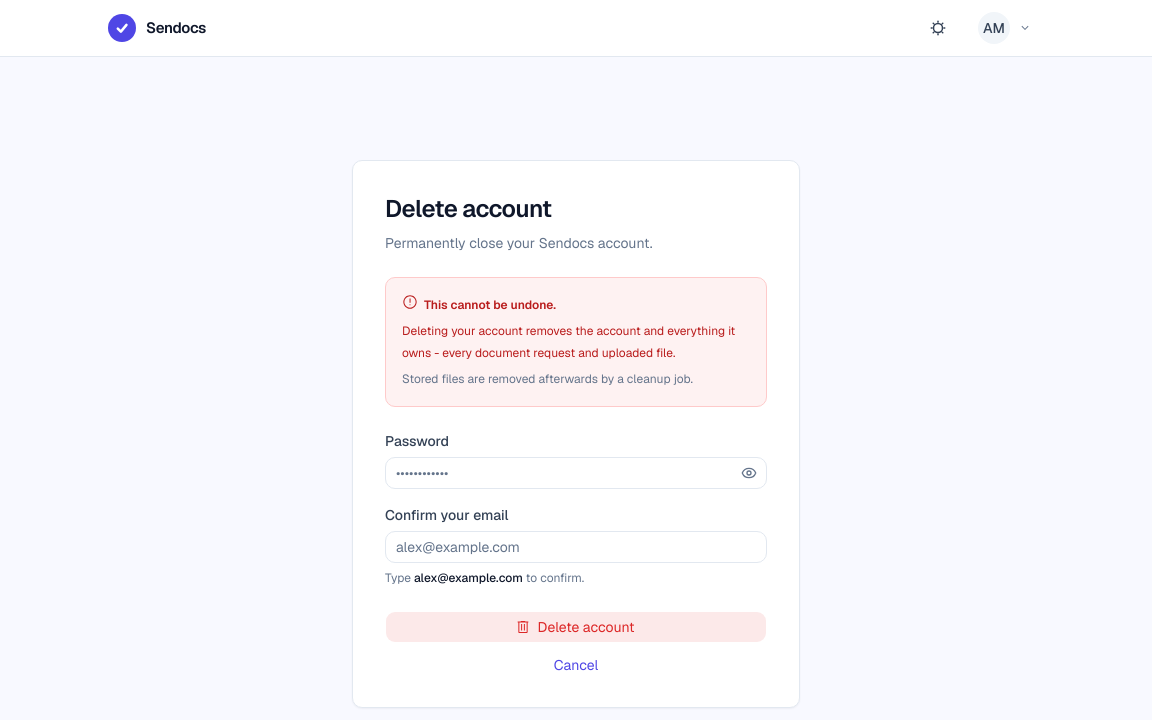
Test case: DeleteAccountPage › requires the account email typed exactly as confirmation
Check: the heading "Delete account" is shown, box x1=385 y1=193 x2=552 y2=224
Check: the text "alex@example.com" is shown, box x1=414 y1=570 x2=523 y2=586
Type "correcthorsebattery" into the password field labelled "Password".
click(576, 473); type("correcthorsebattery")  # box x1=385 y1=457 x2=767 y2=489
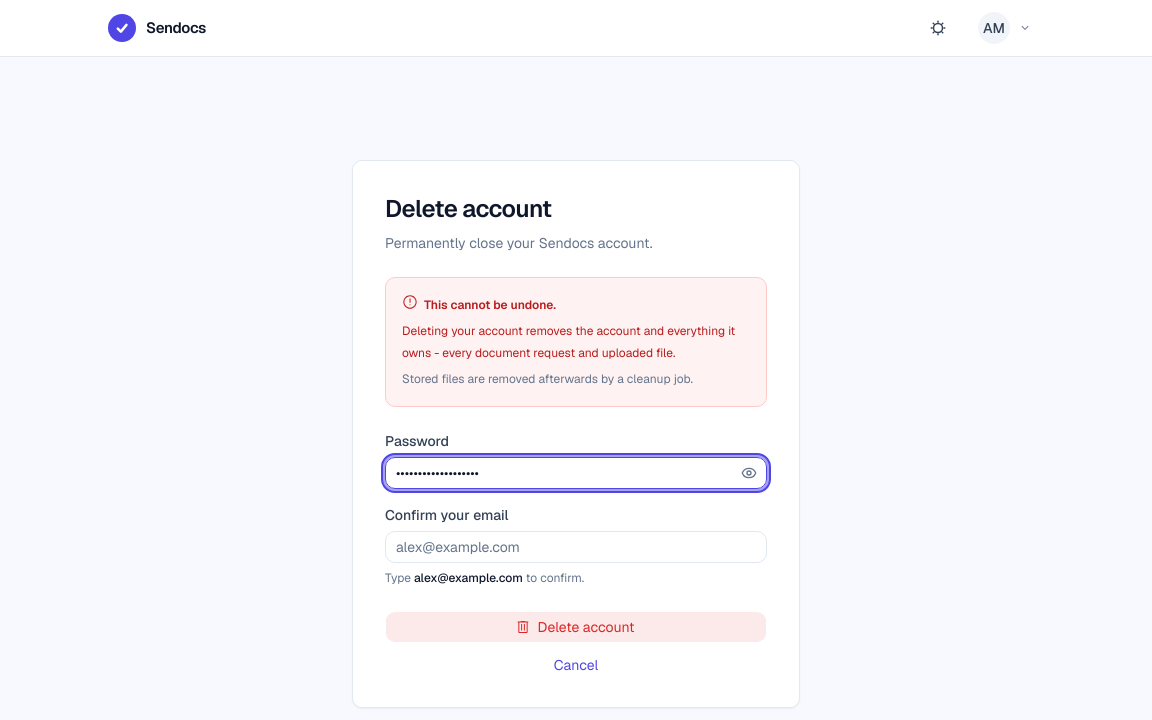
Type "someone@example.com" into the field labelled "Confirm your email".
click(576, 547); type("someone@example.com")  # box x1=385 y1=531 x2=767 y2=563
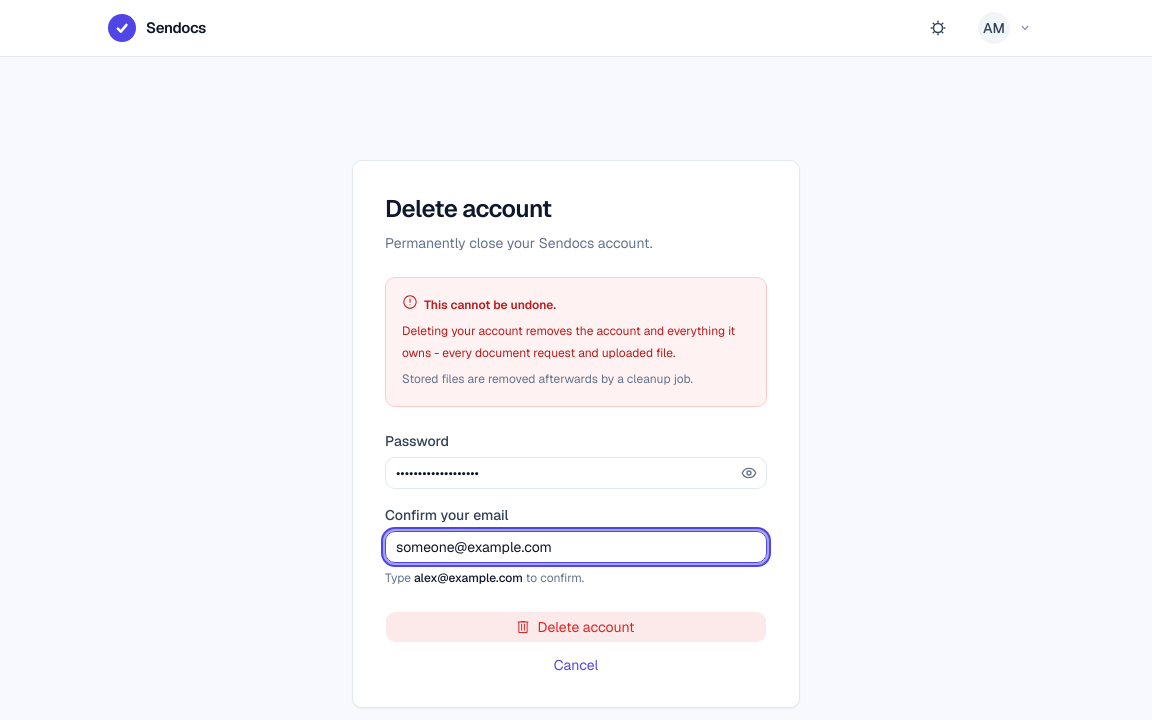
Click the button "Delete account".
click(576, 627)  # box x1=385 y1=611 x2=767 y2=643
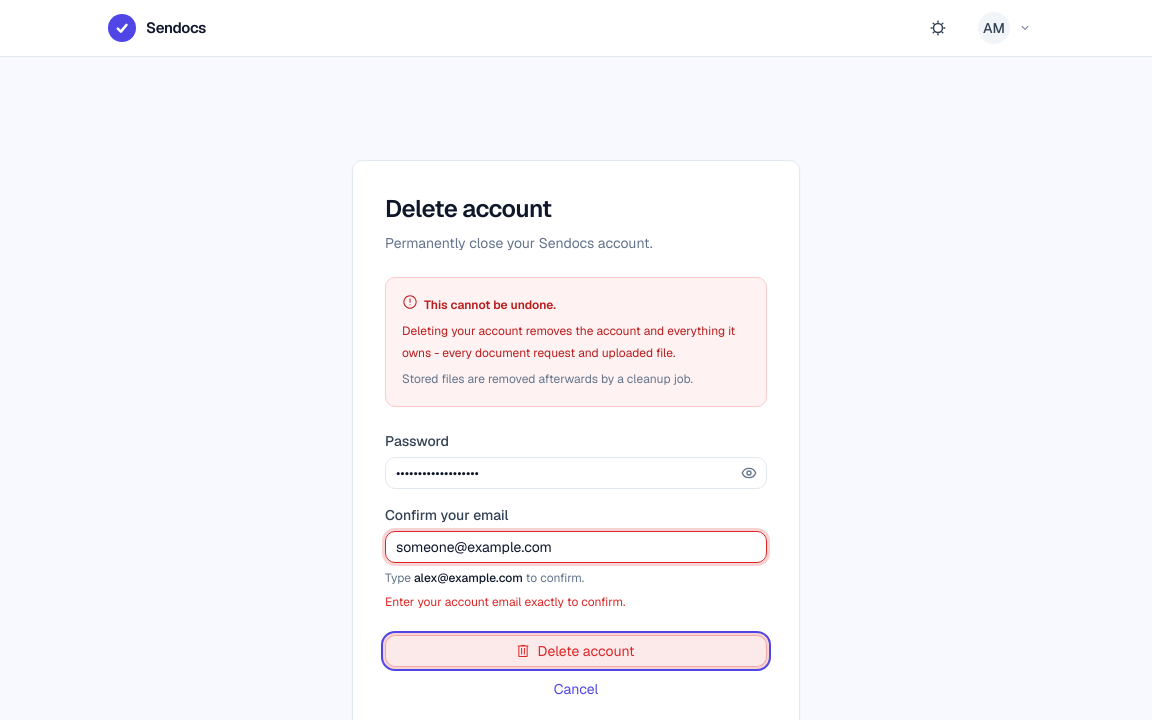
Check: the text "Enter your account email exactly to confirm." is shown, box x1=385 y1=594 x2=625 y2=610
